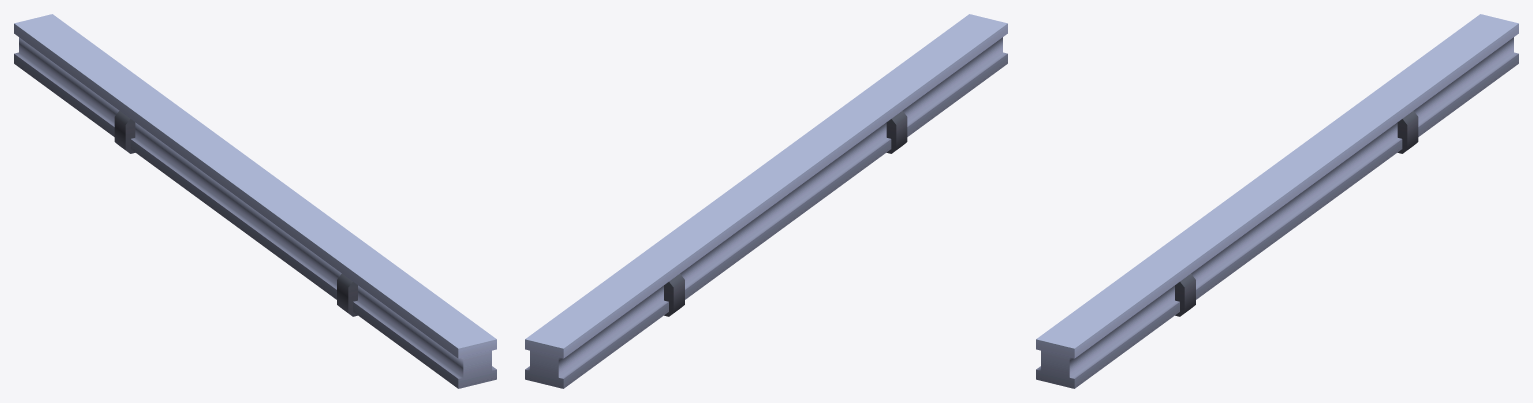
The model's file is coaster-monorail-straight.glb.
3 renders of one model, left to right at view 1: azimuth 30°, elevation 25°; view 2: azimuth 150°, elevation 25°; view 3: azimuth 330°, elevation 25°, orthographic.
Visible parts, largest first — view 1: coaster-monorail-straight; view 2: coaster-monorail-straight; view 3: coaster-monorail-straight.
Part boxes in pixels (x1=…): coaster-monorail-straight: x1=14, y1=14, x2=496, y2=388; coaster-monorail-straight: x1=525, y1=14, x2=1007, y2=388; coaster-monorail-straight: x1=1036, y1=14, x2=1518, y2=388.
Size of the model in its own units: 0.25 by 0.2251 by 4.
1 material, 1 textured.
